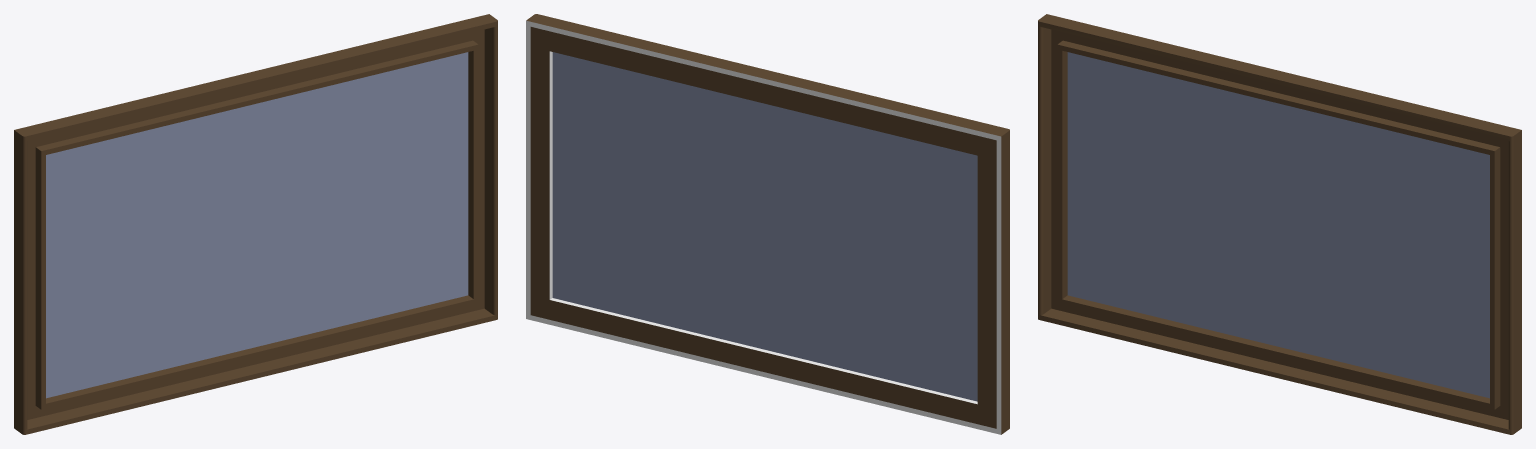
File: Cuadro1.fbx
3 renders of one model, left to right at view 1: azimuth 30°, elevation 25°; view 2: azimuth 150°, elevation 25°; view 3: azimuth 330°, elevation 25°, orthographic.
Visible parts, largest first — view 1: Model; view 2: Model; view 3: Model.
Boxes of the visible parts, <box> form: Model: <box>14,14,497,434</box>; Model: <box>526,14,1009,434</box>; Model: <box>1038,14,1521,434</box>.
Size of the model in its own units: 1 by 0.6 by 0.035.
